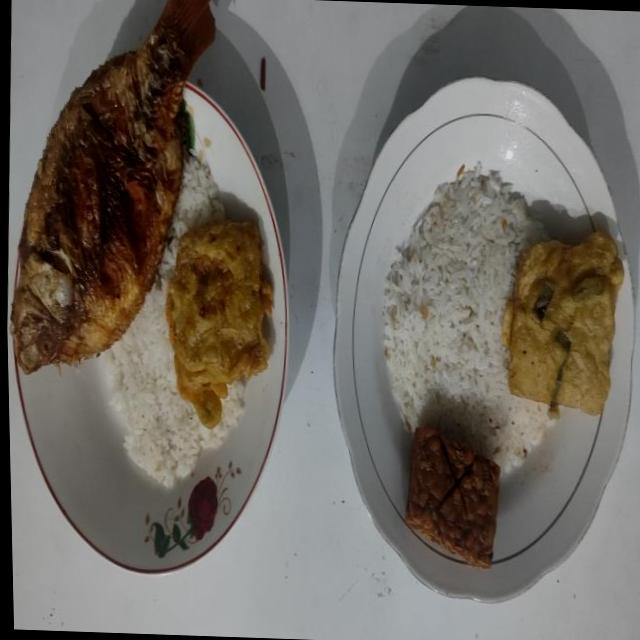ikan_mujair: (11, 0, 214, 374)
nasi_putih: (382, 166, 552, 470), (100, 156, 244, 487)
tempe_goreng: (404, 427, 500, 568)
